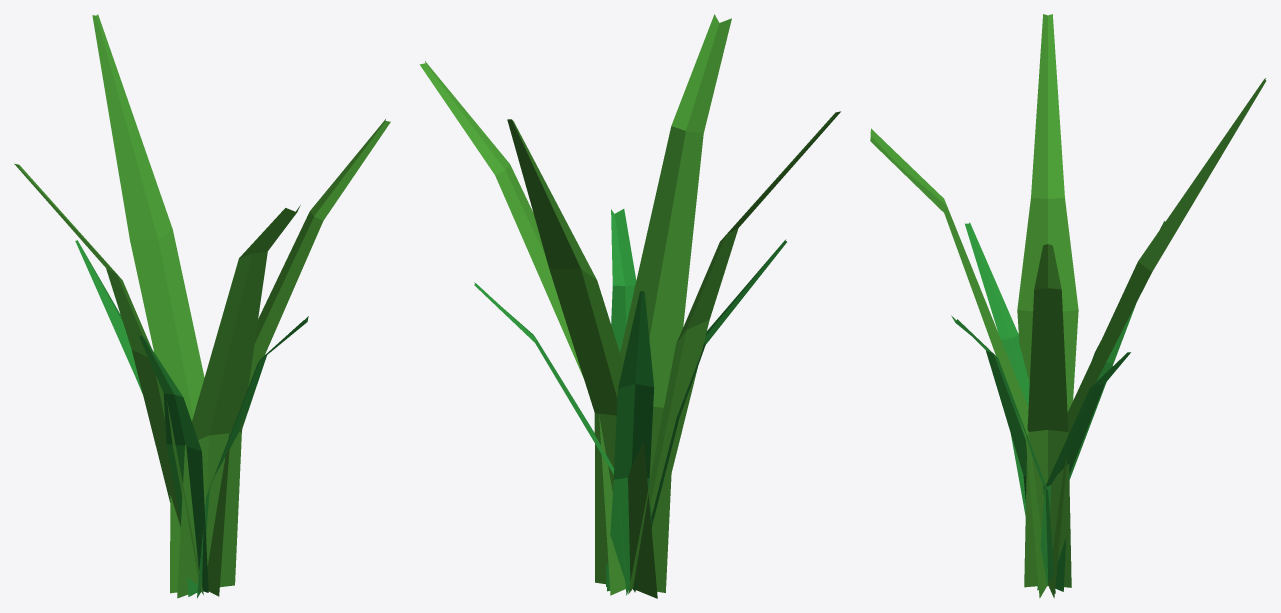
The model's file is zole.glb.
3 renders of one model, left to right at view 1: azimuth 30°, elevation 25°; view 2: azimuth 150°, elevation 25°; view 3: azimuth 270°, elevation 25°, orthographic. The views are drawn at different scales.
Visible parts, largest first — view 1: Zole; view 2: Zole; view 3: Zole.
Boxes of the visible parts, x1,y1,x2,y2 form: Zole: (14, 14, 390, 598); Zole: (419, 14, 840, 598); Zole: (870, 14, 1266, 598).
Bounding box in the file's own units: 0.1303 × 0.1662 × 0.1178.
